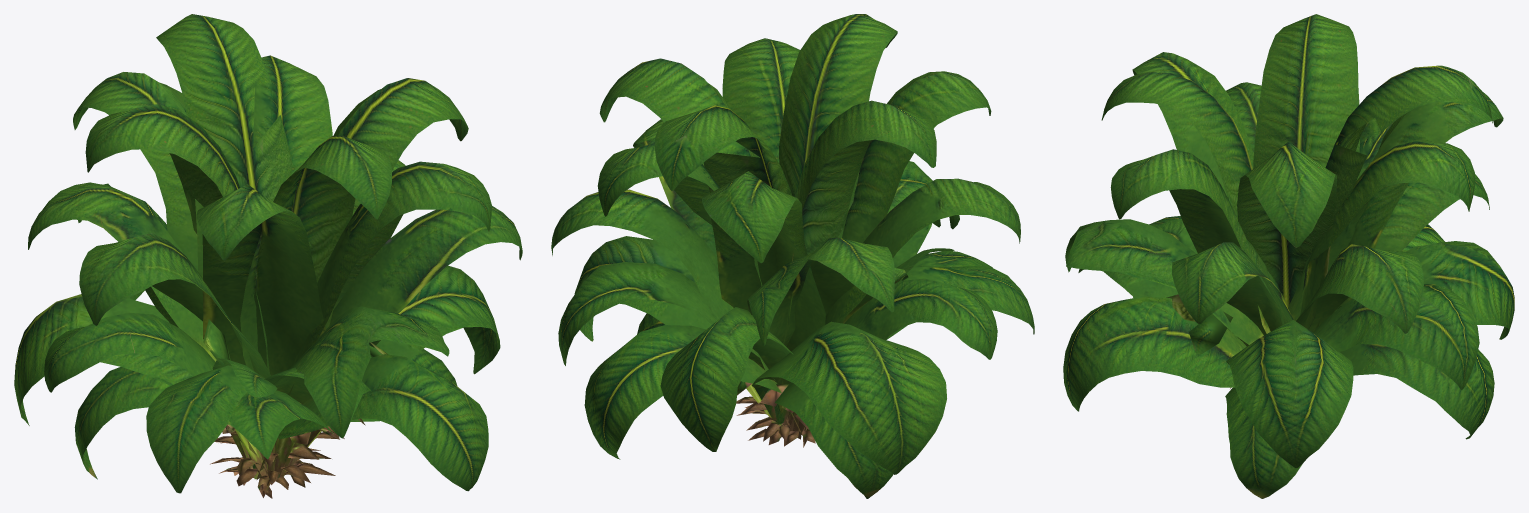
The model's file is Meshy_AI__1027212759_texture.glb.
The picture shows the model from 3 angles, left to right: view 1: azimuth 30°, elevation 25°; view 2: azimuth 150°, elevation 25°; view 3: azimuth 270°, elevation 25°; orthographic projection. The views are drawn at different scales.
Size of the model in its own units: 2.8 by 2.5 by 2.77.
Materials: 1 (1 with a texture image).
